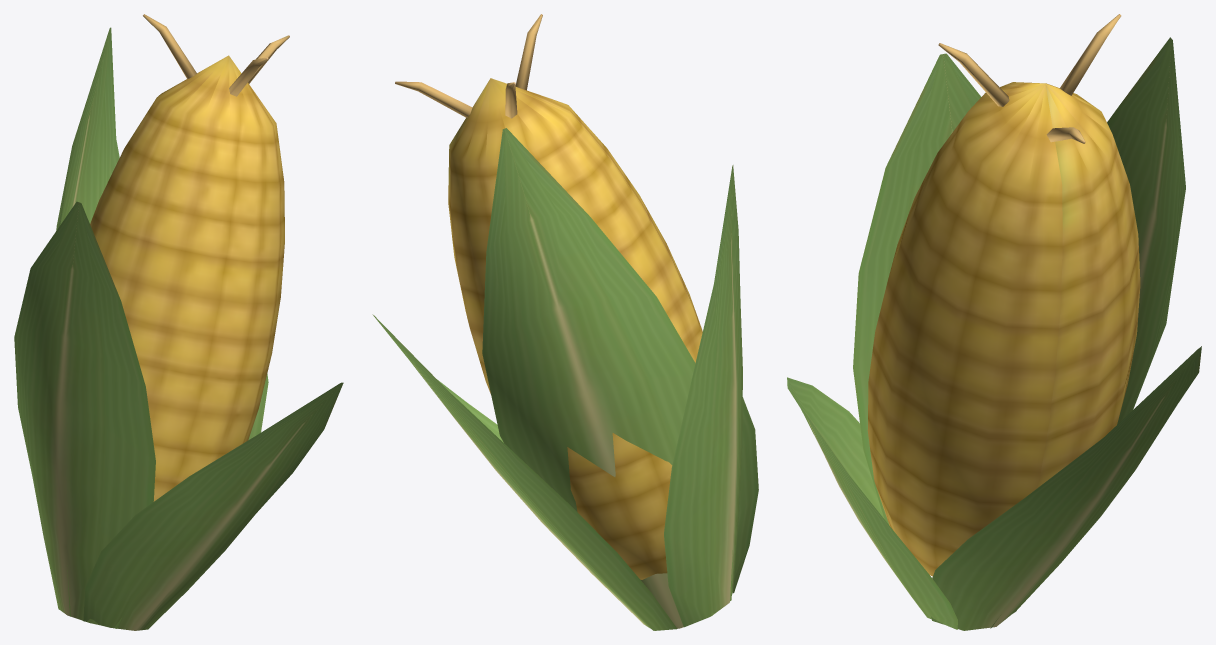
The picture shows the model from 3 angles, left to right: view 1: azimuth 30°, elevation 25°; view 2: azimuth 150°, elevation 25°; view 3: azimuth 270°, elevation 25°; orthographic projection. The views are drawn at different scales.
Parts seen in each view (by area): view 1: corn; view 2: corn; view 3: corn.
Part boxes in pixels (x1,y1,x2,y2): corn: [14, 14, 343, 630]; corn: [372, 14, 758, 630]; corn: [787, 14, 1201, 630].
Size of the model in its own units: 0.1389 by 0.255 by 0.1459.
1 material, 1 textured.
